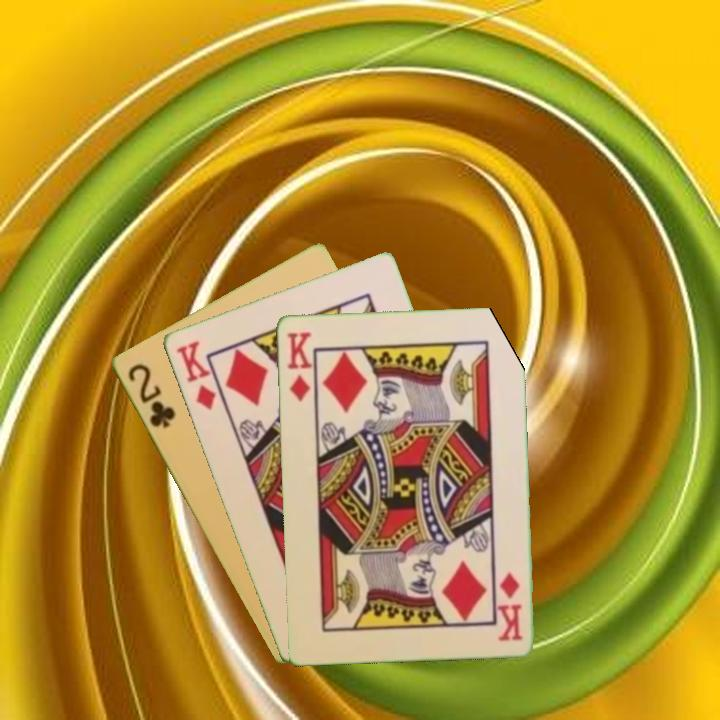2c: (123, 360, 178, 432)
Kd: (171, 337, 218, 413), (283, 327, 314, 404), (495, 568, 525, 643)
